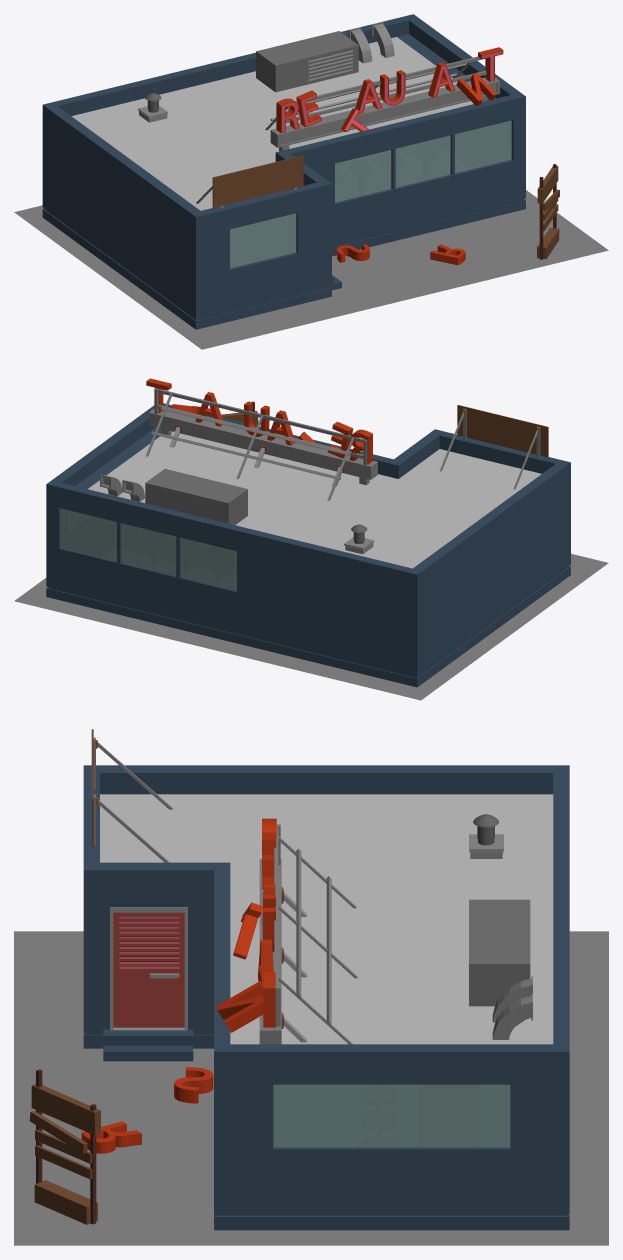
The model's file is restaurant.glb.
3 renders of one model, top to bottom at view 1: azimuth 30°, elevation 25°; view 2: azimuth 150°, elevation 25°; view 3: azimuth 270°, elevation 25°, orthographic. The views are drawn at different scales.
Visible parts, largest first — view 1: Cube, Plane, Cube.004, Cube.003, Cube.005, Cube.008, Cube.007, Cube.006, Cylinder, Cube.002, Cube.001; view 2: Cube, Plane, Cube.005, Cube.003, Cube.007, Cube.004, Cube.008, Cube.010, Cylinder; view 3: Cube, Plane, Cube.011, Cube.004, Cube.006, Cube.003, Cube.007, Cube.005, Cylinder, Cube.010, Cube.002, Cube.001 (+1 smaller).
Part boxes in pixels (x1,y1,x2,y2): Cube: (42,14,525,329); Plane: (14,190,608,349); Cube.004: (276,47,503,265); Cube.003: (256,31,358,92); Cube.005: (270,77,499,151); Cube.008: (212,155,303,207); Cube.007: (265,56,486,130); Cube.006: (537,164,559,259); Cylinder: (138,93,168,122); Cube.002: (372,22,394,57); Cube.001: (349,27,372,63); Cube: (46,403,570,687); Plane: (14,553,608,700); Cube.005: (149,409,377,484); Cube.003: (145,469,247,524); Cube.007: (145,388,367,500); Cube.004: (146,378,372,464); Cube.008: (457,405,548,457); Cube.010: (439,408,540,489); Cylinder: (344,524,374,554); Cube: (83,765,569,1230); Plane: (14,931,608,1245); Cube.011: (110,907,187,1030); Cube.004: (81,818,276,1153); Cube.006: (29,1069,100,1224); Cube.003: (469,899,530,1006); Cube.007: (274,824,358,1044); Cube.005: (259,859,281,1044); Cylinder: (469,814,503,858); Cube.010: (93,737,173,862); Cube.002: (492,993,532,1039); Cube.001: (492,976,532,1022).
Bounding box in the file's own units: 1011 × 361 × 809.
